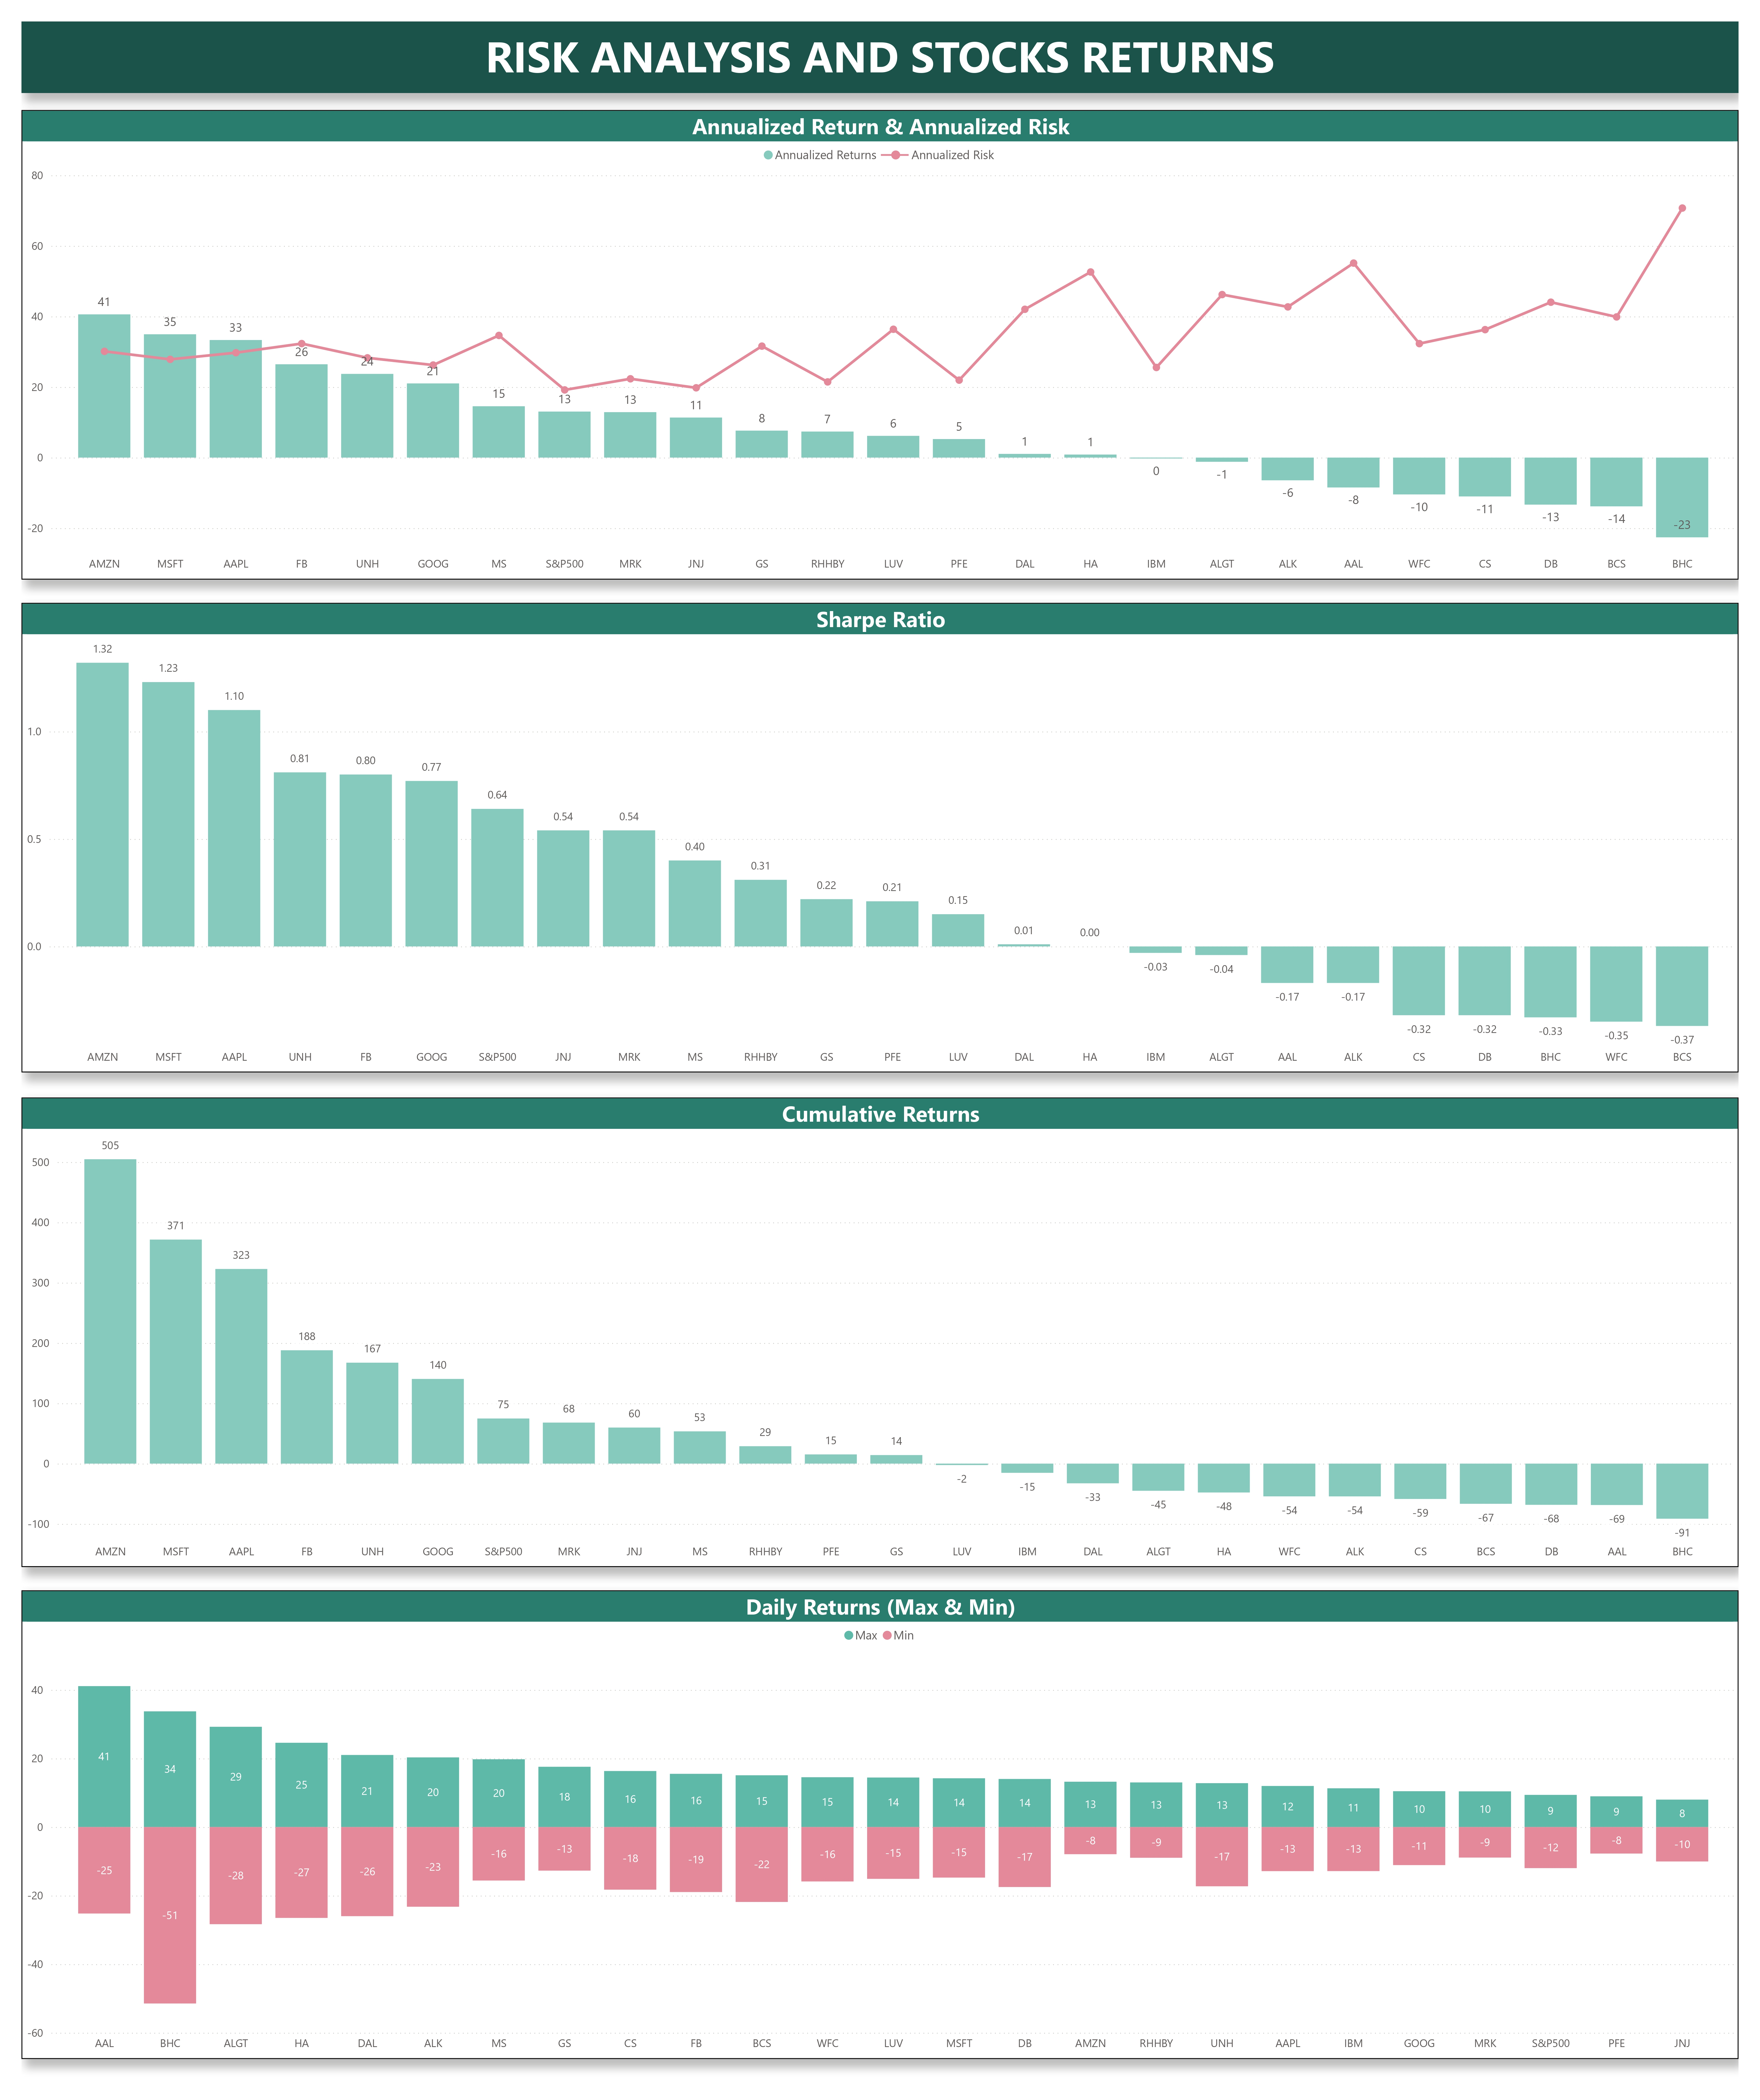

The dashboard page shown, as its layout file describes it:
{"tool":"powerbi","page":{"name":"Risk Analysis & Returns","canvas":[1920,2300],"ordinal":1},"visuals":[{"type":"textbox","box":[0,0,1920,80.4],"z":0},{"type":"lineClusteredColumnComboChart","title":"Annualized Return & Annualized Risk","fields":{"Category":["Stocks_Final.Ticker"],"Y":["Sum(Stocks_Final.Annualized Returns)"],"Y2":["Sum(Stocks_Final.Annualized Risk)"]},"box":[0,99,1920,525],"z":1000},{"type":"lineClusteredColumnComboChart","title":"Sharpe Ratio","fields":{"Category":["Stocks_Final.Ticker"],"Y":["Sum(Stocks_Final.Sharpe Ratio)"]},"box":[0,649.7,1920,525],"z":2000},{"type":"lineClusteredColumnComboChart","title":"Cumulative Returns","fields":{"Category":["Stocks_Final.Ticker"],"Y":["Sum(Stocks_Final.Cumulative Returns)"]},"box":[0,1203.1,1920,524.5],"z":3000},{"type":"columnChart","title":"Daily Returns (Max & Min)","fields":{"Category":["Stocks_Final.Ticker"],"Y":["Sum(Stocks_Final.Max)","Sum(Stocks_Final.Min)"]},"box":[0,1754,1920,524.5],"z":4000}]}

Visuals, with their boxes in screenshot pixels (x1, y1, x2, y2):
textbox: box=[11, 11, 1739, 83]
"Annualized Return & Annualized Risk" lineClusteredColumnComboChart: box=[11, 100, 1739, 573]
"Sharpe Ratio" lineClusteredColumnComboChart: box=[11, 596, 1739, 1069]
"Cumulative Returns" lineClusteredColumnComboChart: box=[11, 1094, 1739, 1566]
"Daily Returns (Max & Min)" columnChart: box=[11, 1590, 1739, 2063]
